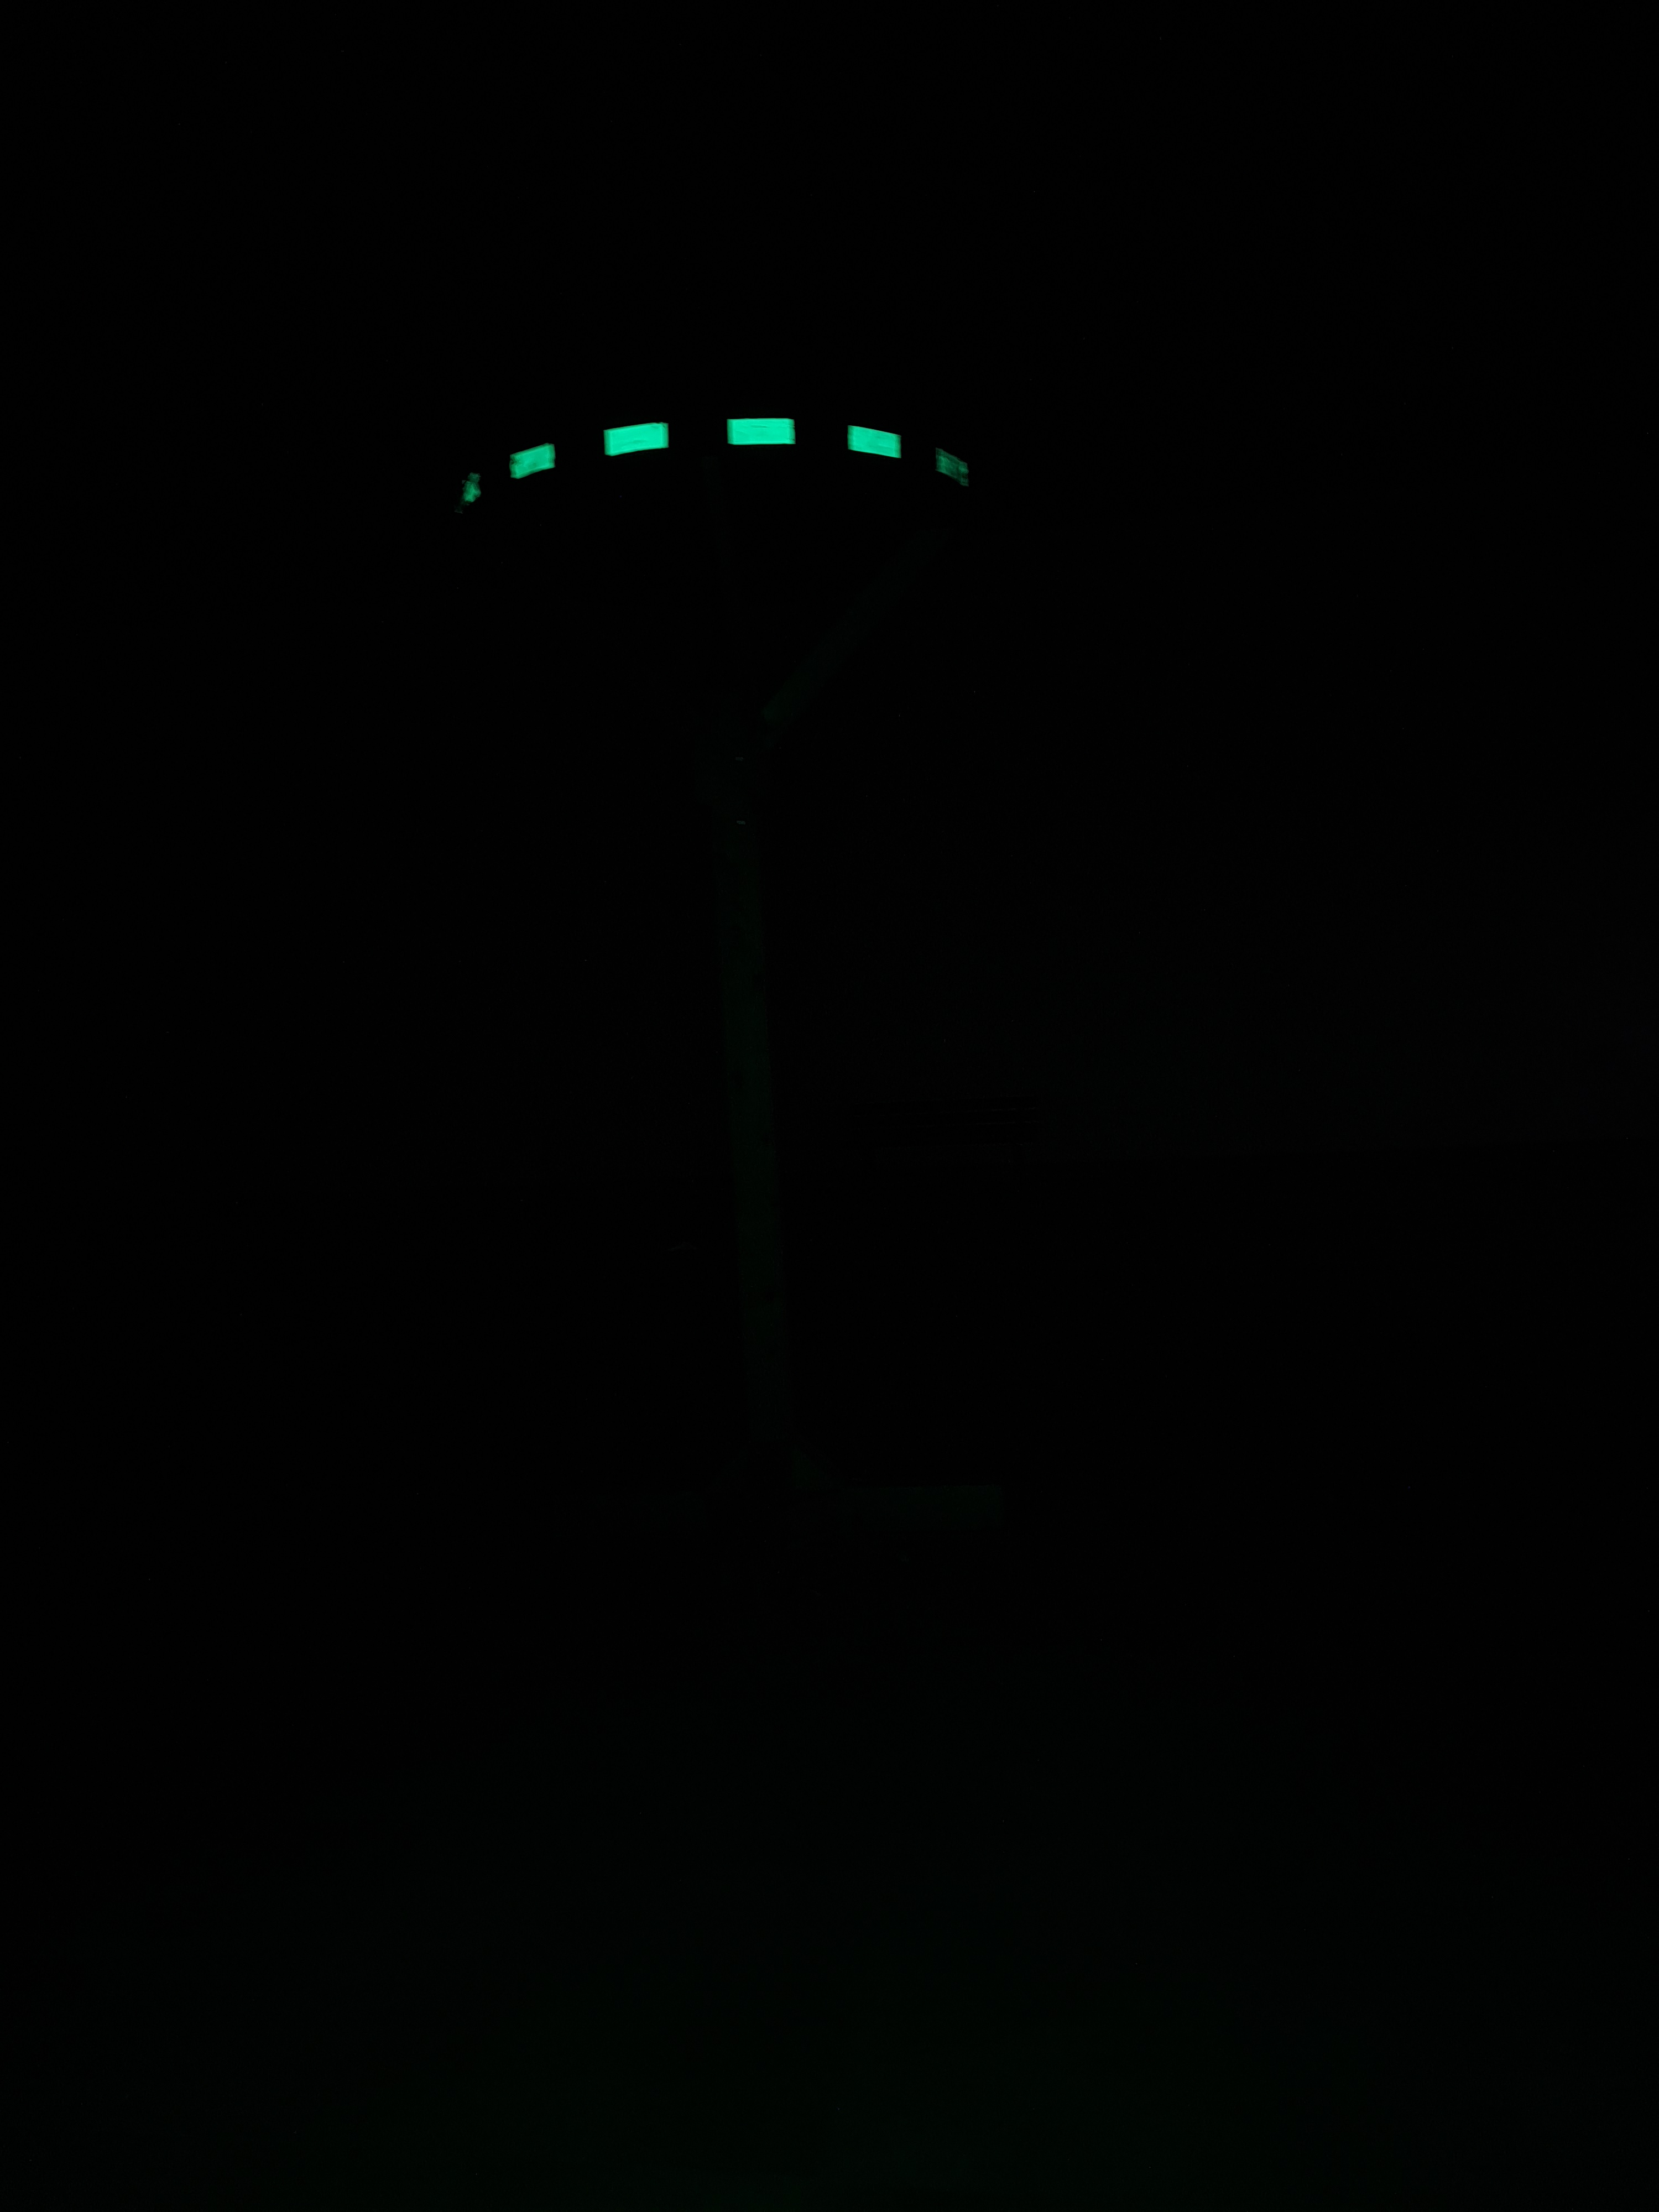hoop: (446, 413, 978, 540)
